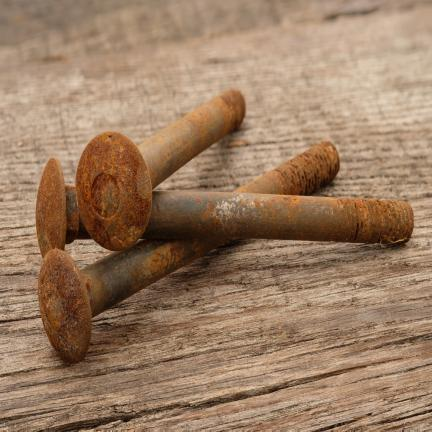karat: (36, 91, 244, 363)
